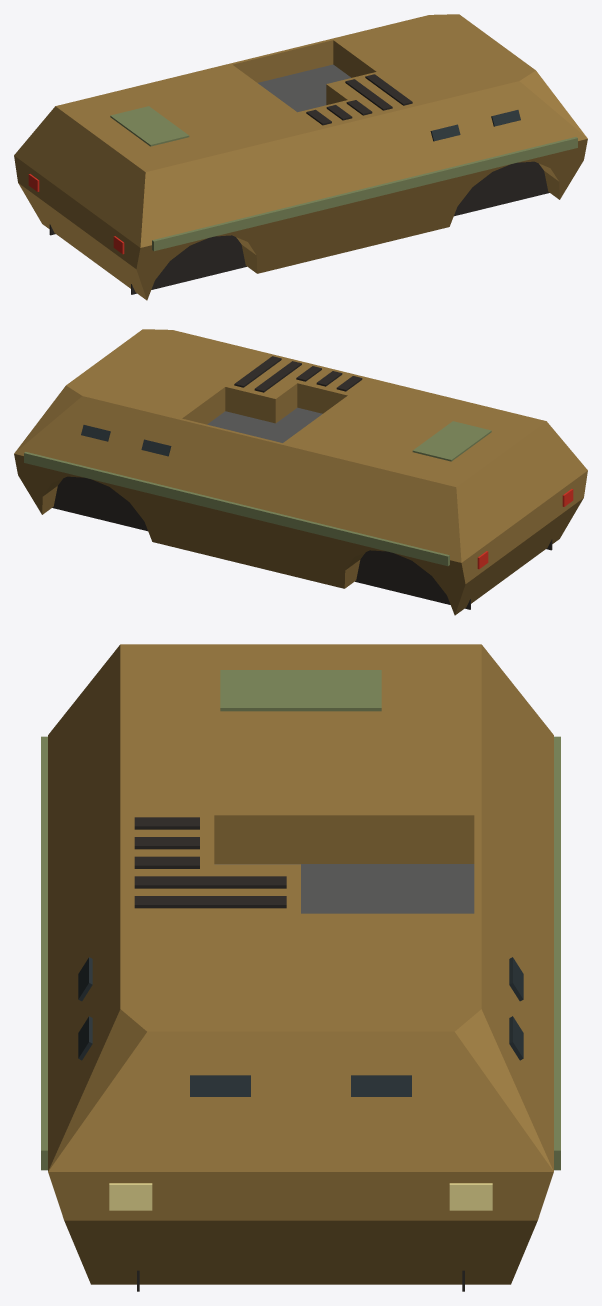
The model's file is base_carrier.glb.
3 renders of one model, top to bottom at view 1: azimuth 30°, elevation 25°; view 2: azimuth 150°, elevation 25°; view 3: azimuth 270°, elevation 25°, orthographic. The views are drawn at different scales.
Visible parts, largest first — view 1: base_carrier; view 2: base_carrier; view 3: base_carrier.
Part boxes in pixels (x1,y1,x2,y2): base_carrier: (14,14,587,300); base_carrier: (14,329,587,615); base_carrier: (41,644,560,1291).
Size of the model in its own units: 5.81 by 1.54 by 2.9.
